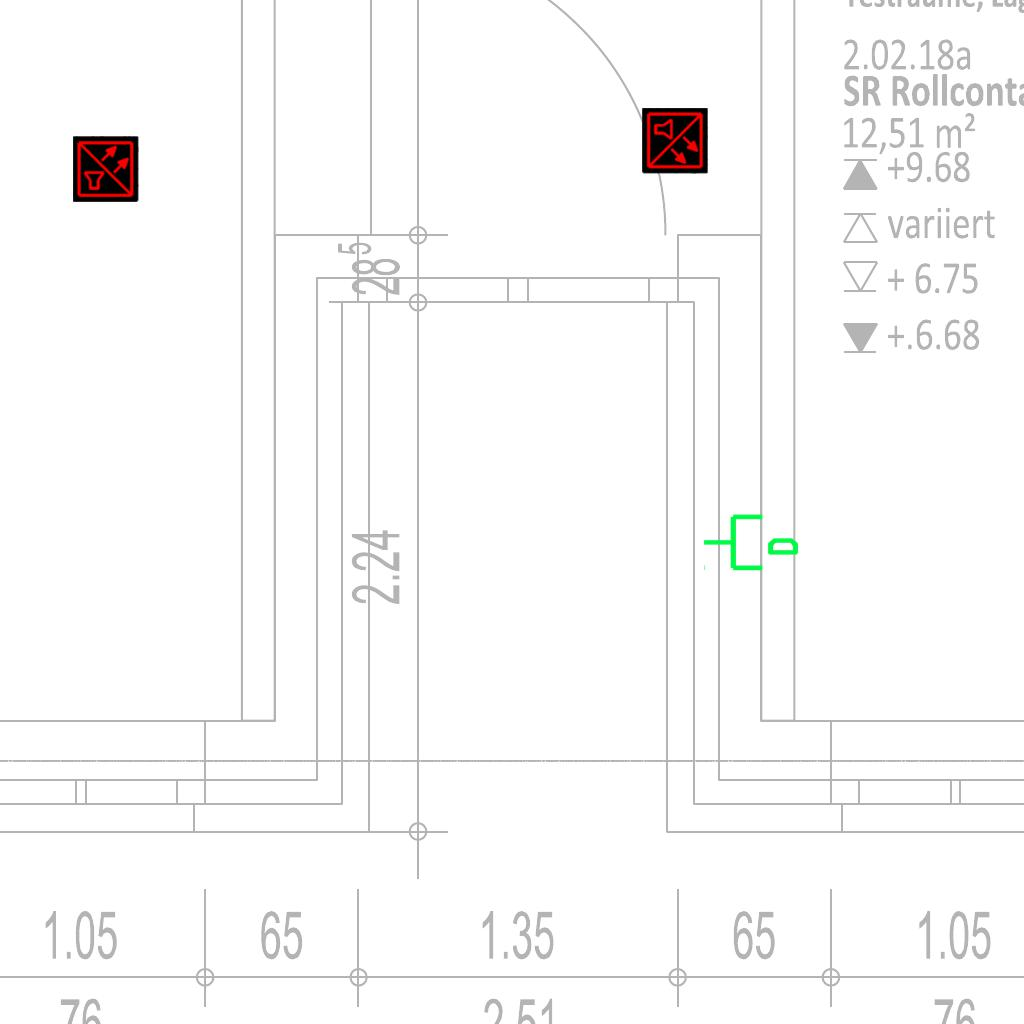Datenanschluss_einfach: (701, 506, 801, 575)
OKW_Multisensormelder_(Kombination_optischer_Rauch-Kahlenmonoxid_Waerme-Melder): (73, 136, 139, 202), (642, 108, 708, 174)
